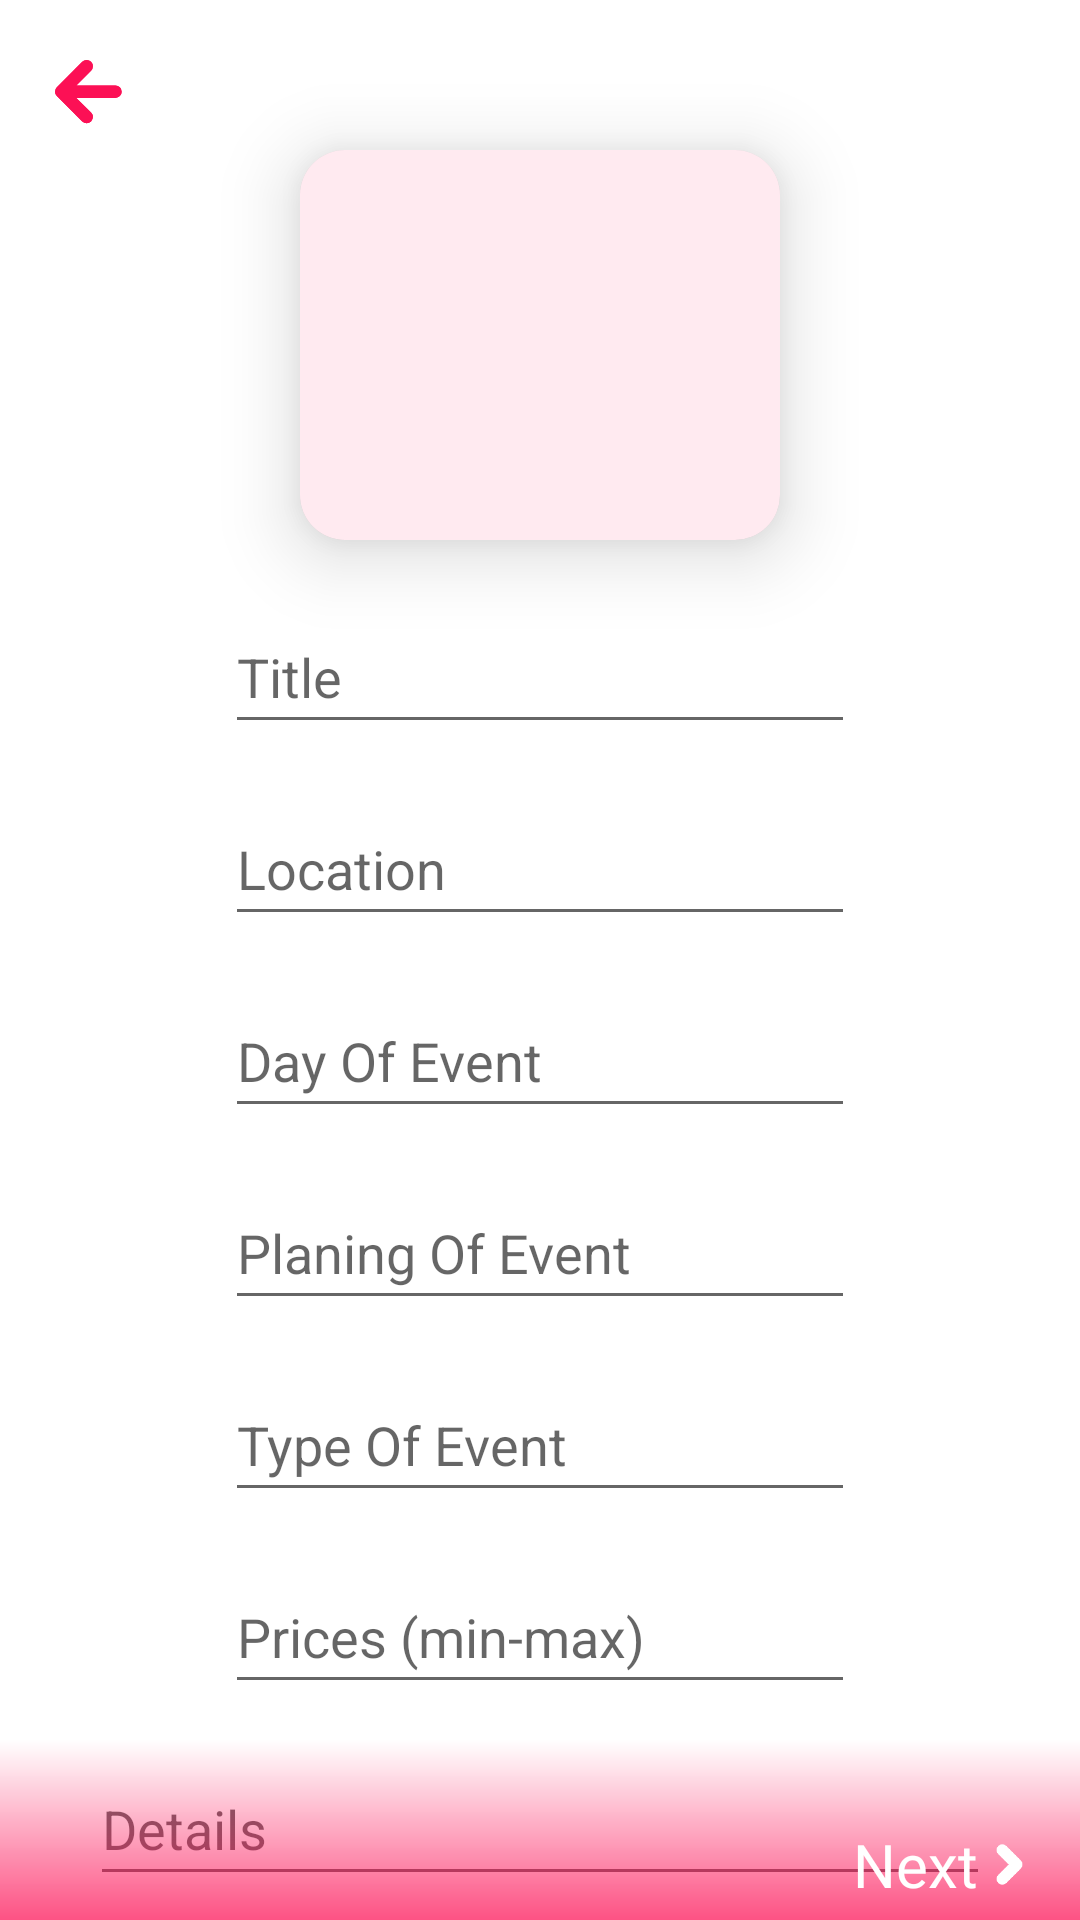

Icon bounding boxes for this 1080×1920 phone screenshot, format box(x1, y1, x2, y2):
top bar back: box(55, 60, 122, 124)
